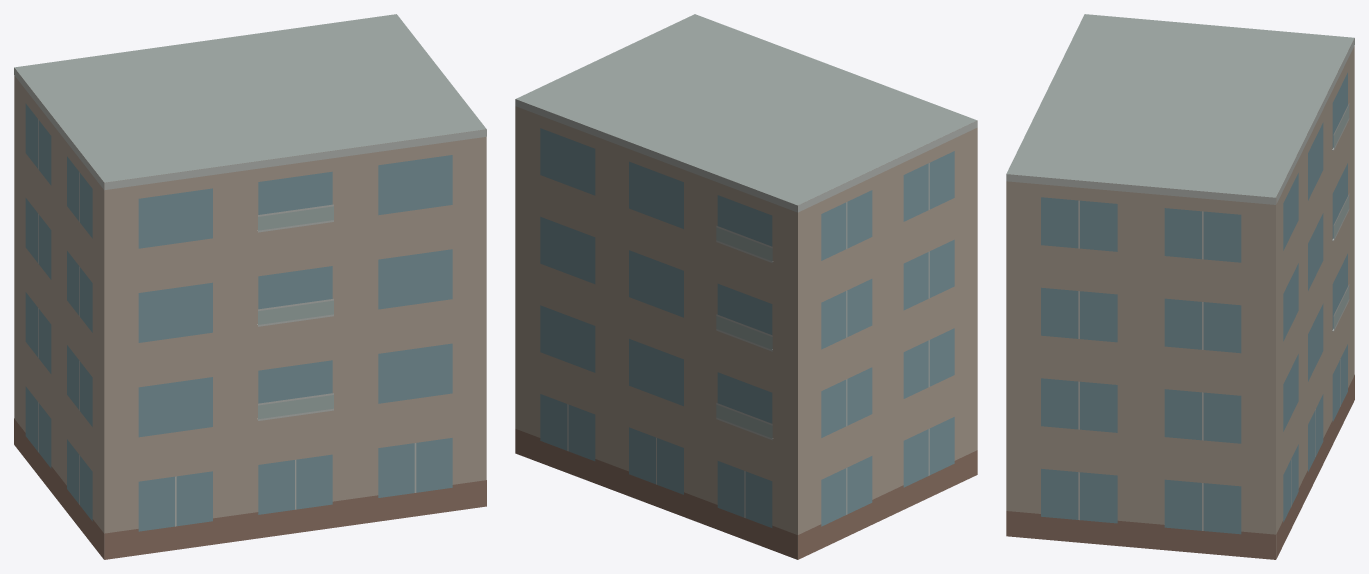
Rendered from residential-3d5afab2-75d7-4bfe-84f1-4a2b8743d97b.glb.
3 views of the same model, side by side, from view 1: azimuth 30°, elevation 25°; view 2: azimuth 150°, elevation 25°; view 3: azimuth 270°, elevation 25° (orthographic). The views are drawn at different scales.
Visible parts, largest first — view 1: residential-3d5afab2-75d7-4bfe-84f1-4a2b8743d97b.tmp; view 2: residential-3d5afab2-75d7-4bfe-84f1-4a2b8743d97b.tmp; view 3: residential-3d5afab2-75d7-4bfe-84f1-4a2b8743d97b.tmp.
Boxes of the visible parts, <box> form: residential-3d5afab2-75d7-4bfe-84f1-4a2b8743d97b.tmp: <box>14,14,486,559</box>; residential-3d5afab2-75d7-4bfe-84f1-4a2b8743d97b.tmp: <box>515,14,977,559</box>; residential-3d5afab2-75d7-4bfe-84f1-4a2b8743d97b.tmp: <box>1006,14,1354,559</box>.
Size of the model in its own units: 13.29 by 12.2 by 10.65.
